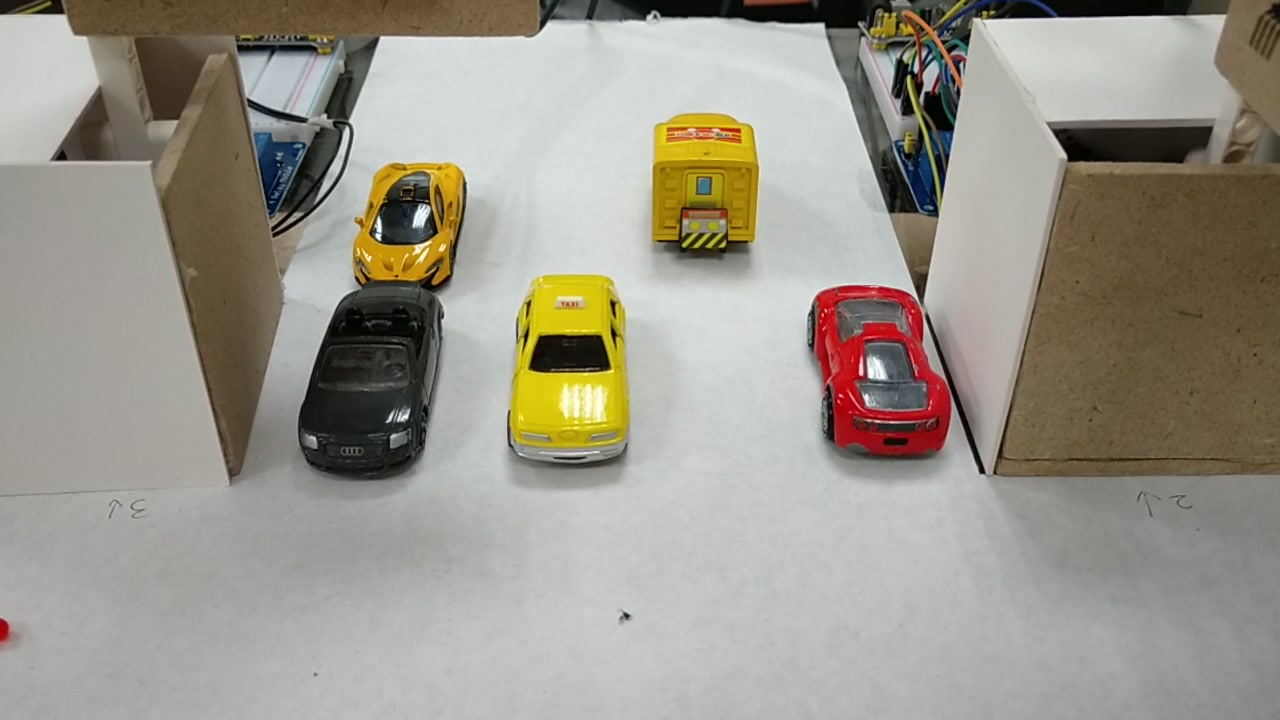car: (297, 285, 444, 473), (814, 285, 950, 459), (509, 272, 621, 460), (352, 154, 465, 282)
